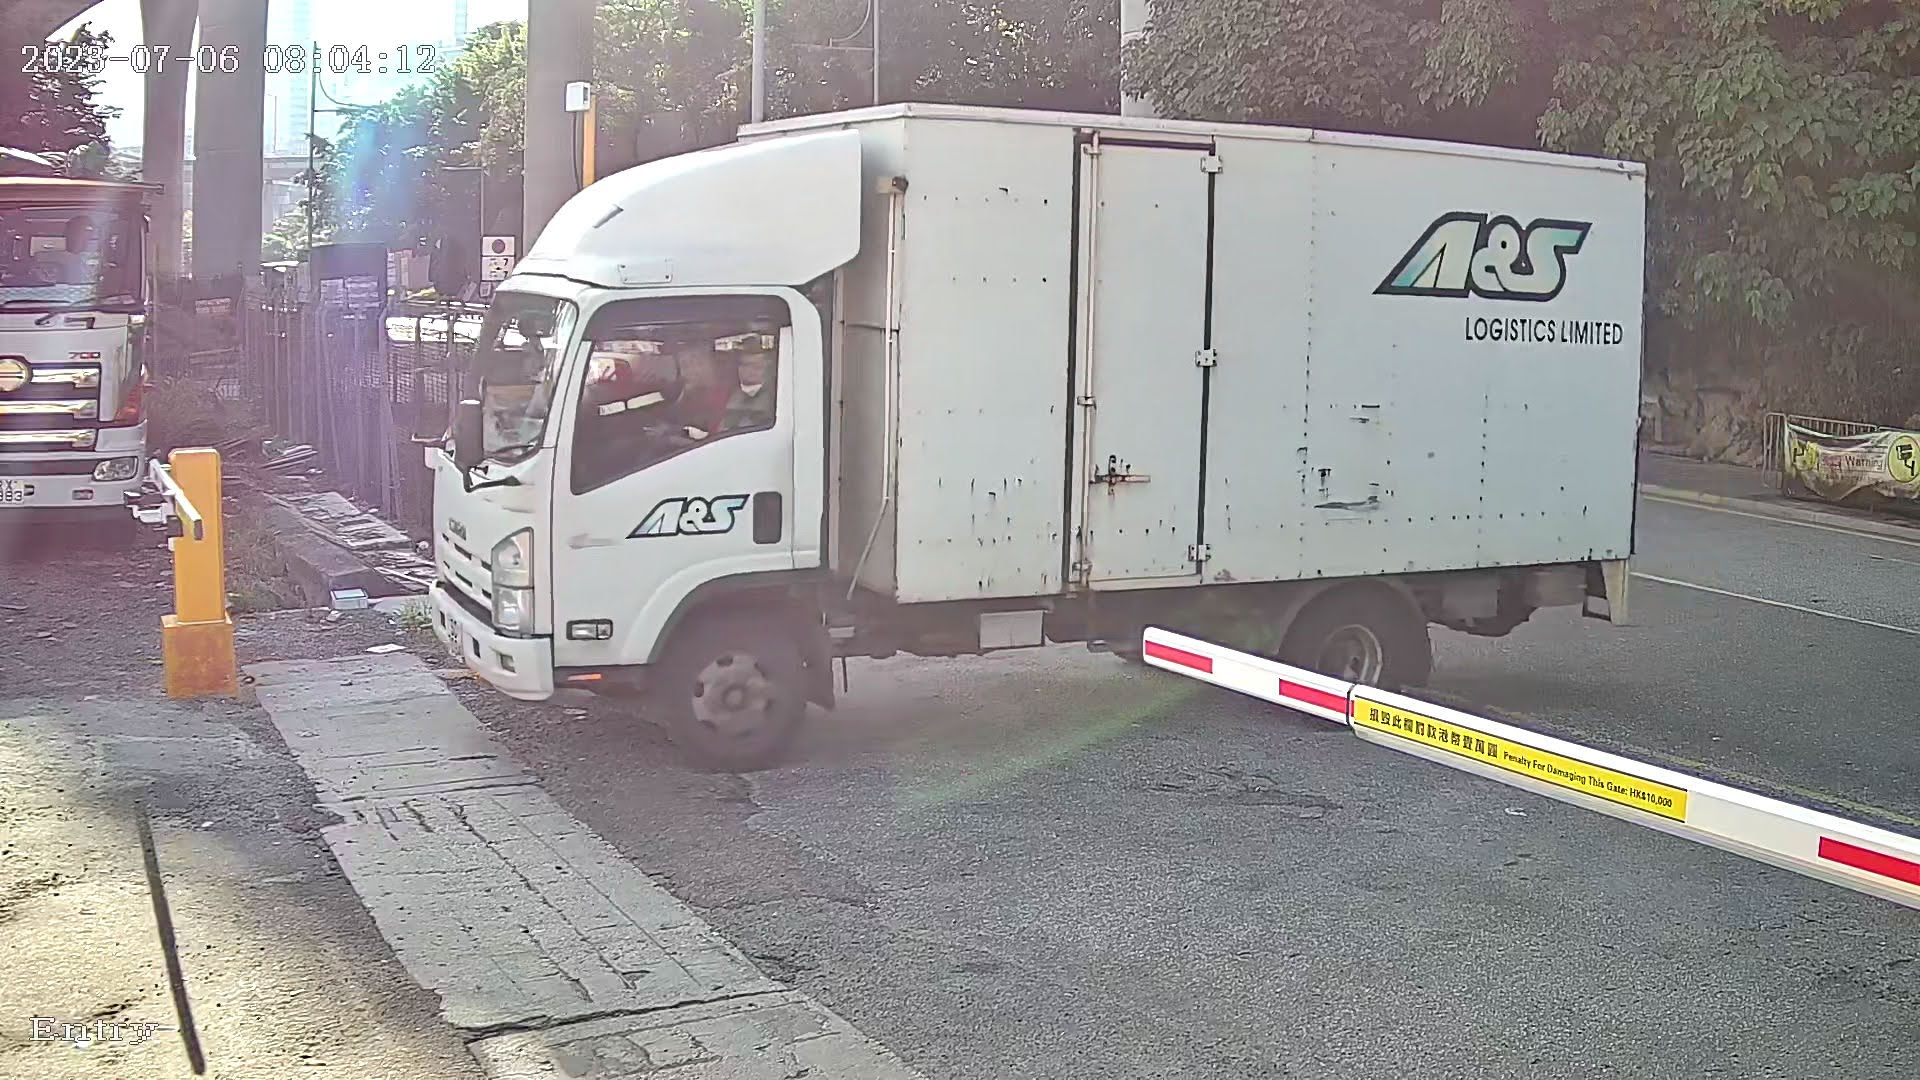truck_small: (361, 47, 1712, 793)
